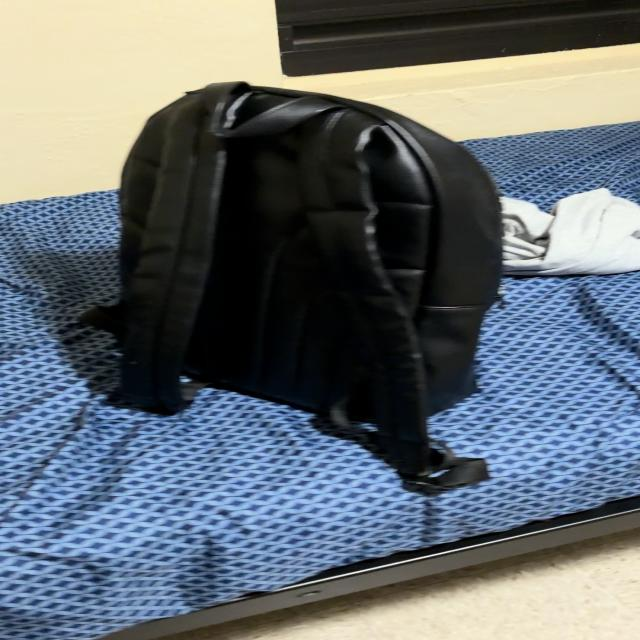backpack: (84, 83, 501, 490), (191, 394, 192, 394)
